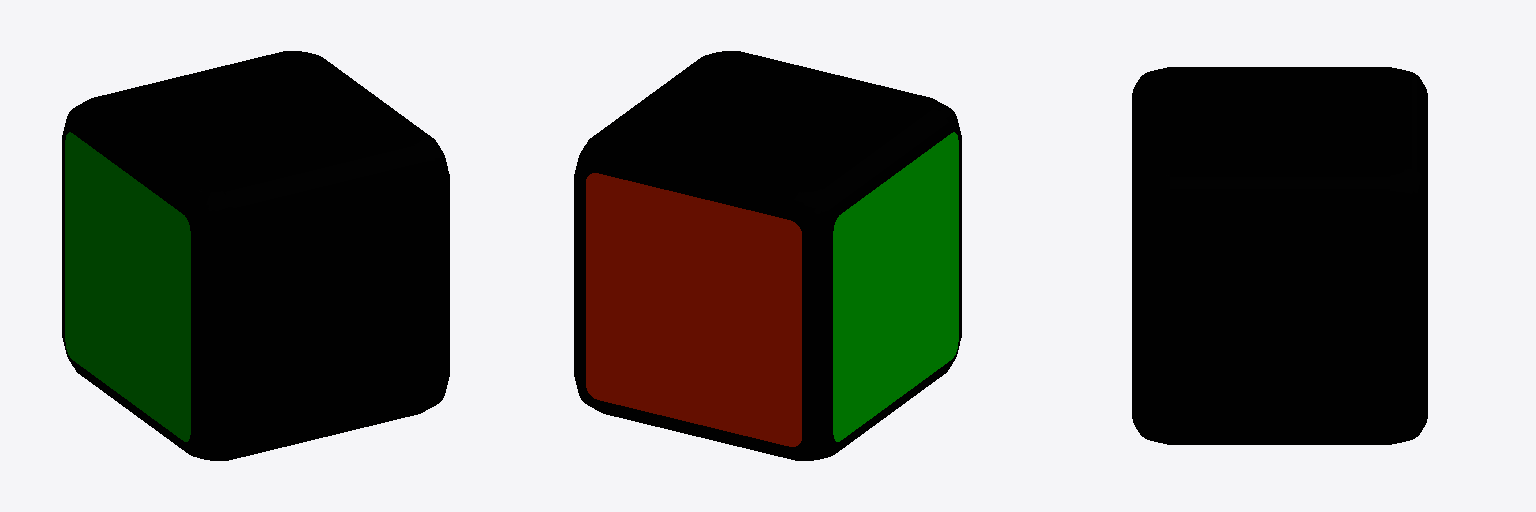
Rendered from edge_go.obj.
3 renders of one model, left to right at view 1: azimuth 30°, elevation 25°; view 2: azimuth 150°, elevation 25°; view 3: azimuth 270°, elevation 25°, orthographic.
Parts seen in each view (by area): view 1: Cube; view 2: Cube; view 3: Cube.
Part boxes in pixels (left/top/right/bottom): Cube: left=62, top=51, right=449, bottom=460; Cube: left=574, top=51, right=961, bottom=460; Cube: left=1132, top=67, right=1427, bottom=444.
Bounding box in the file's own units: 2 × 2 × 2.